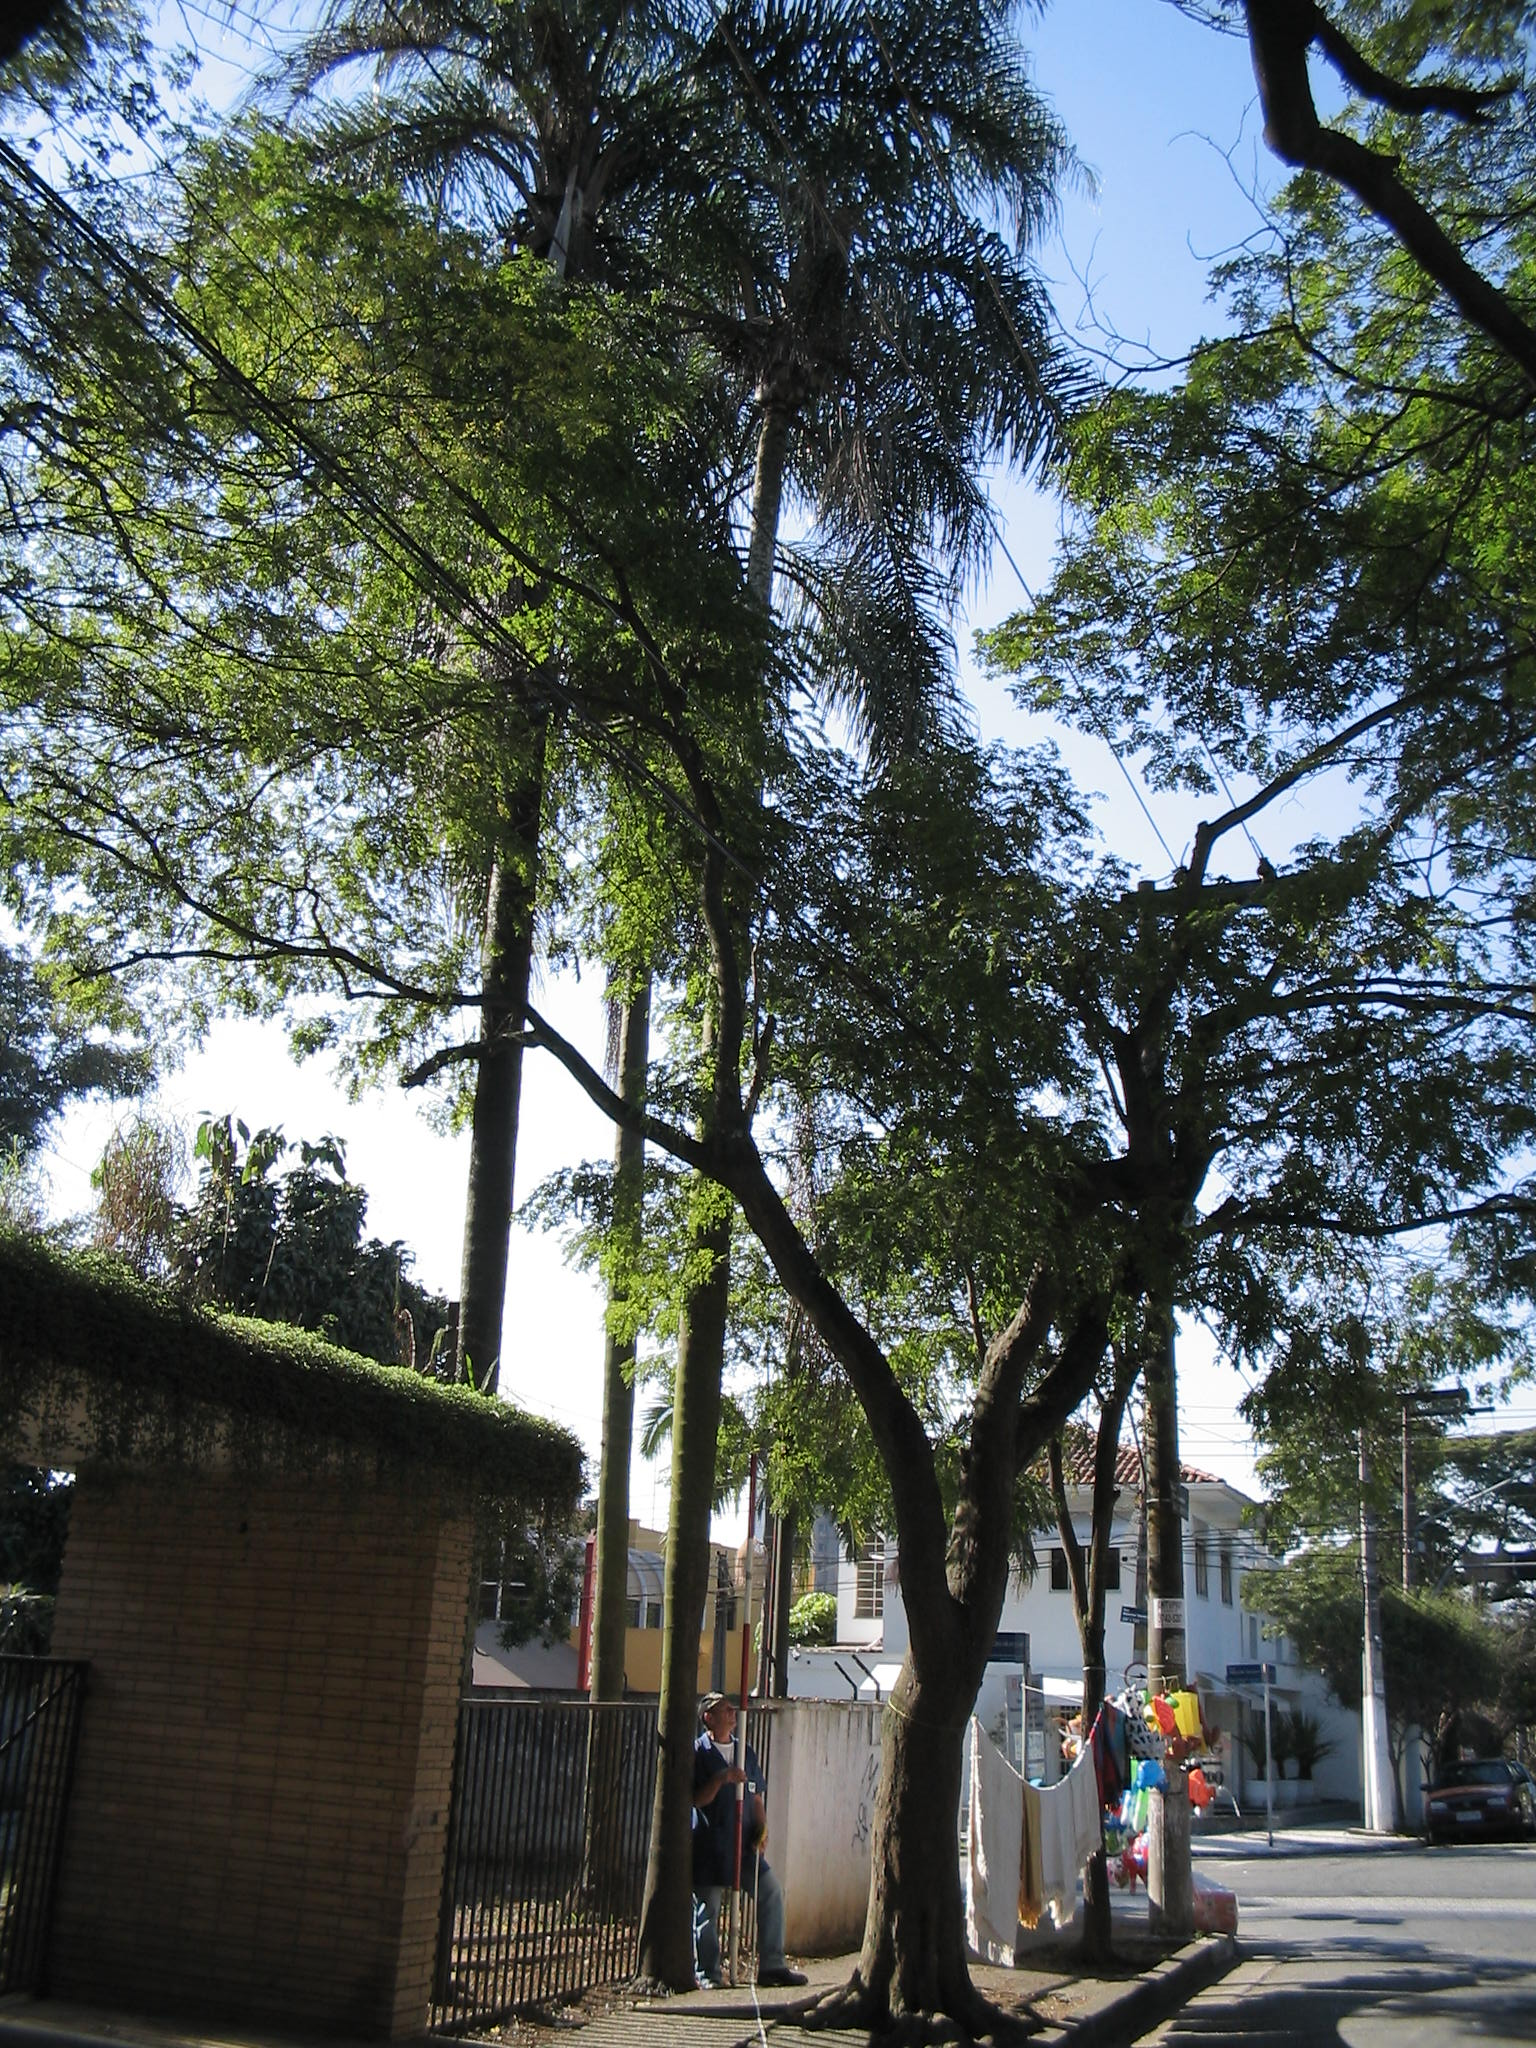crown: (11, 114, 1517, 1526)
stem: (837, 1625, 1028, 2030)
stick: (724, 1455, 771, 1982)
tree: (6, 114, 1526, 2035)
